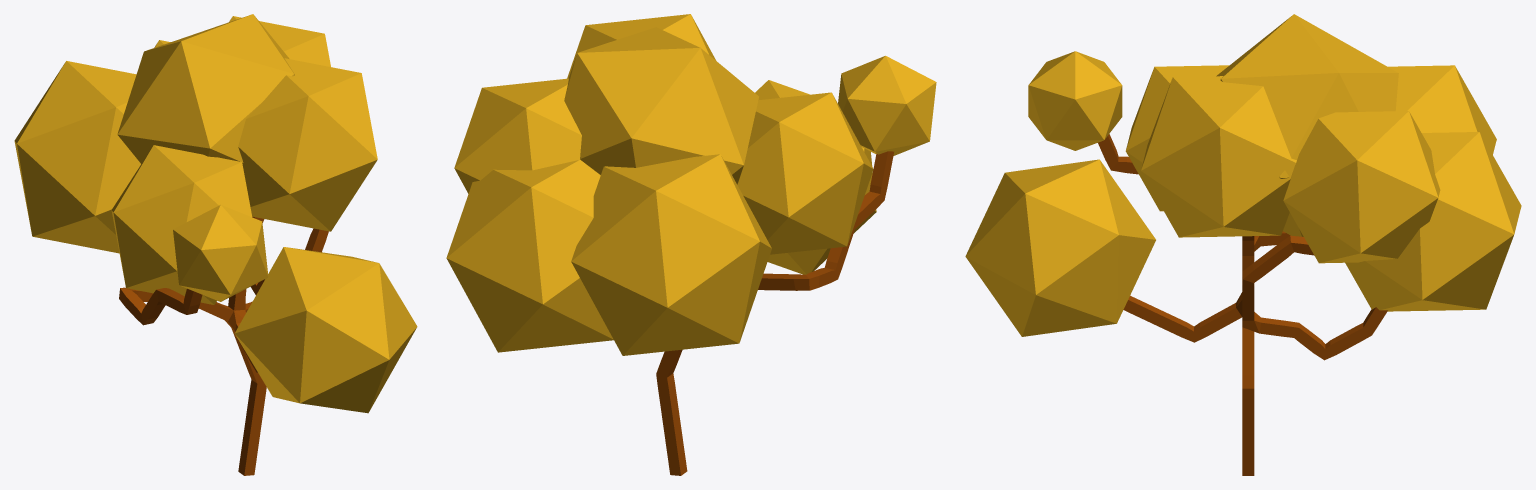
File: Arbol Amarillo.fbx
The picture shows the model from 3 angles, left to right: view 1: azimuth 30°, elevation 25°; view 2: azimuth 150°, elevation 25°; view 3: azimuth 270°, elevation 25°; orthographic projection. The views are drawn at different scales.
Parts seen in each view (by area): view 1: Cylinder.001; view 2: Cylinder.001; view 3: Cylinder.001.
Boxes of the visible parts, x1,y1,x2,y2 form: Cylinder.001: [14, 14, 417, 475]; Cylinder.001: [446, 14, 936, 475]; Cylinder.001: [965, 14, 1521, 475].
Size of the model in its own units: 599 by 815 by 938.
